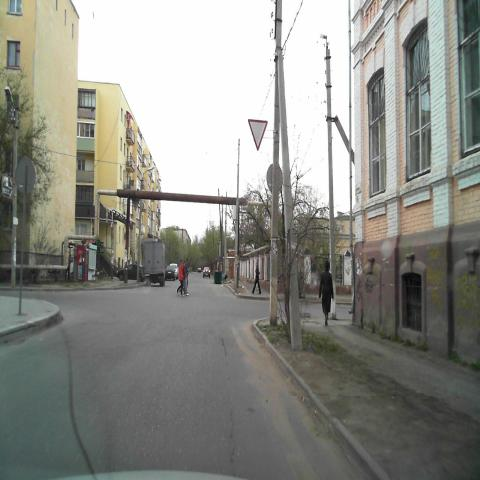2_4: (248, 118, 268, 152)
